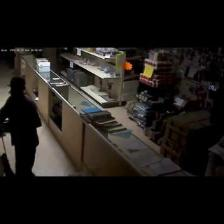person: (0, 77, 41, 177)
